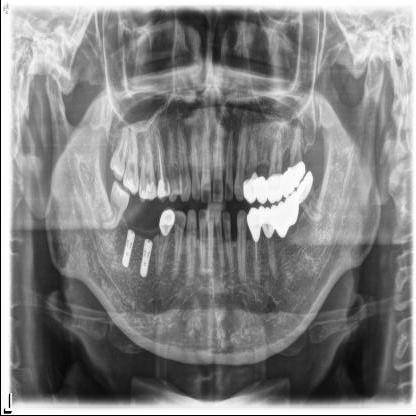ITI: (122, 229, 136, 272), (139, 235, 151, 281)
